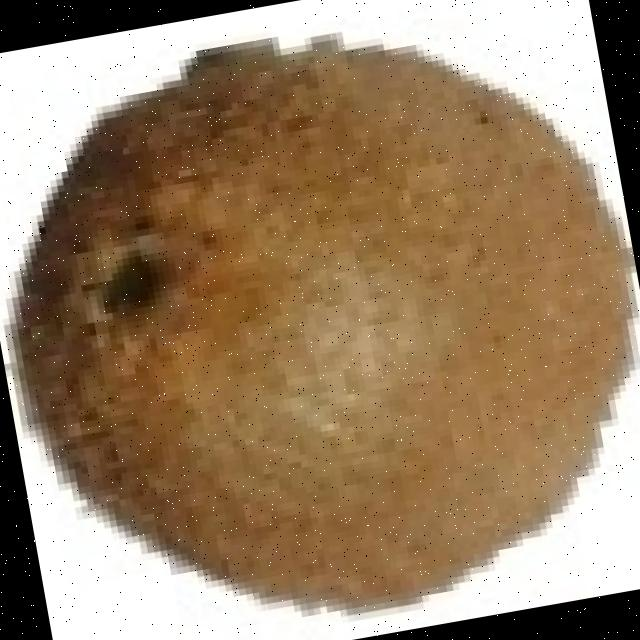kiwi: (29, 54, 639, 617)
